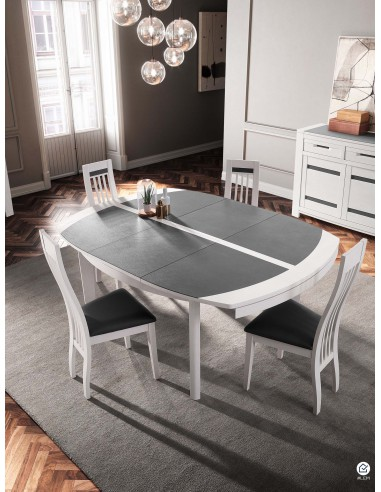cabinet: (285, 118, 381, 237)
chair: (33, 226, 169, 406), (238, 234, 371, 418), (73, 159, 125, 213), (219, 155, 266, 211)
table: (58, 185, 346, 403)
